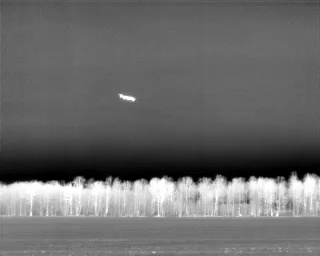DRONE: (115, 89, 139, 106)
